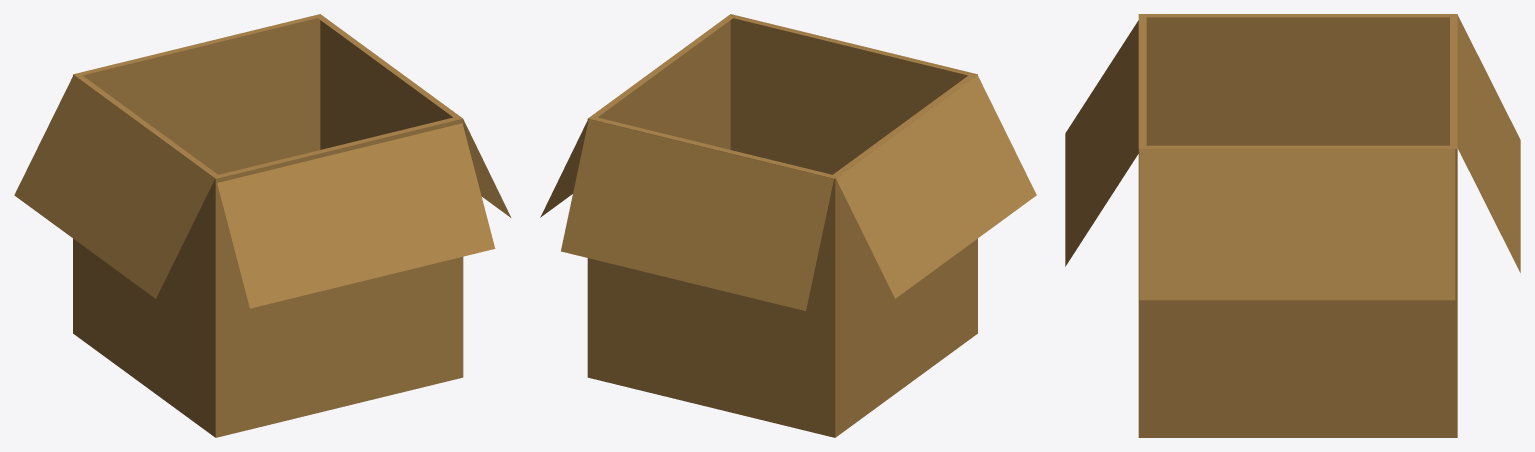
The picture shows the model from 3 angles, left to right: view 1: azimuth 30°, elevation 25°; view 2: azimuth 150°, elevation 25°; view 3: azimuth 270°, elevation 25°; orthographic projection. The views are drawn at different scales.
Parts seen in each view (by area): view 1: Cube; view 2: Cube; view 3: Cube.
Part boxes in pixels (x1=…): Cube: x1=14, y1=14, x2=511, y2=437; Cube: x1=540, y1=14, x2=1036, y2=437; Cube: x1=1065, y1=14, x2=1520, y2=437.
Bounding box in the file's own units: 2.87 × 2 × 2.85.
